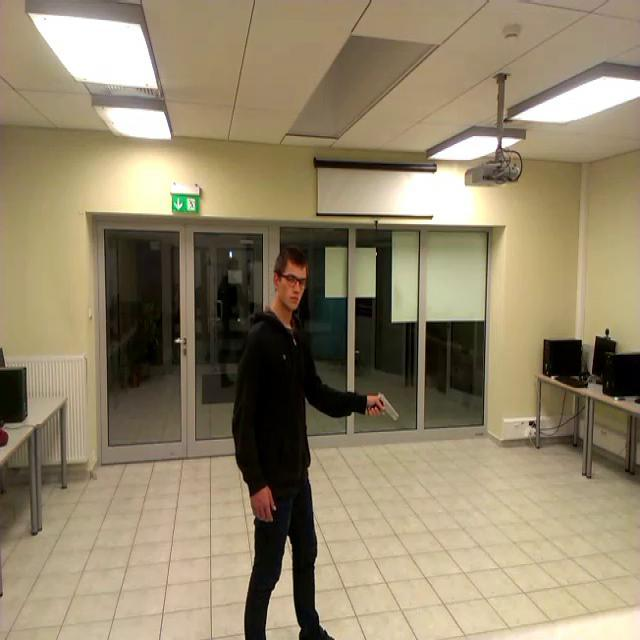Gun: (369, 392, 400, 419)
